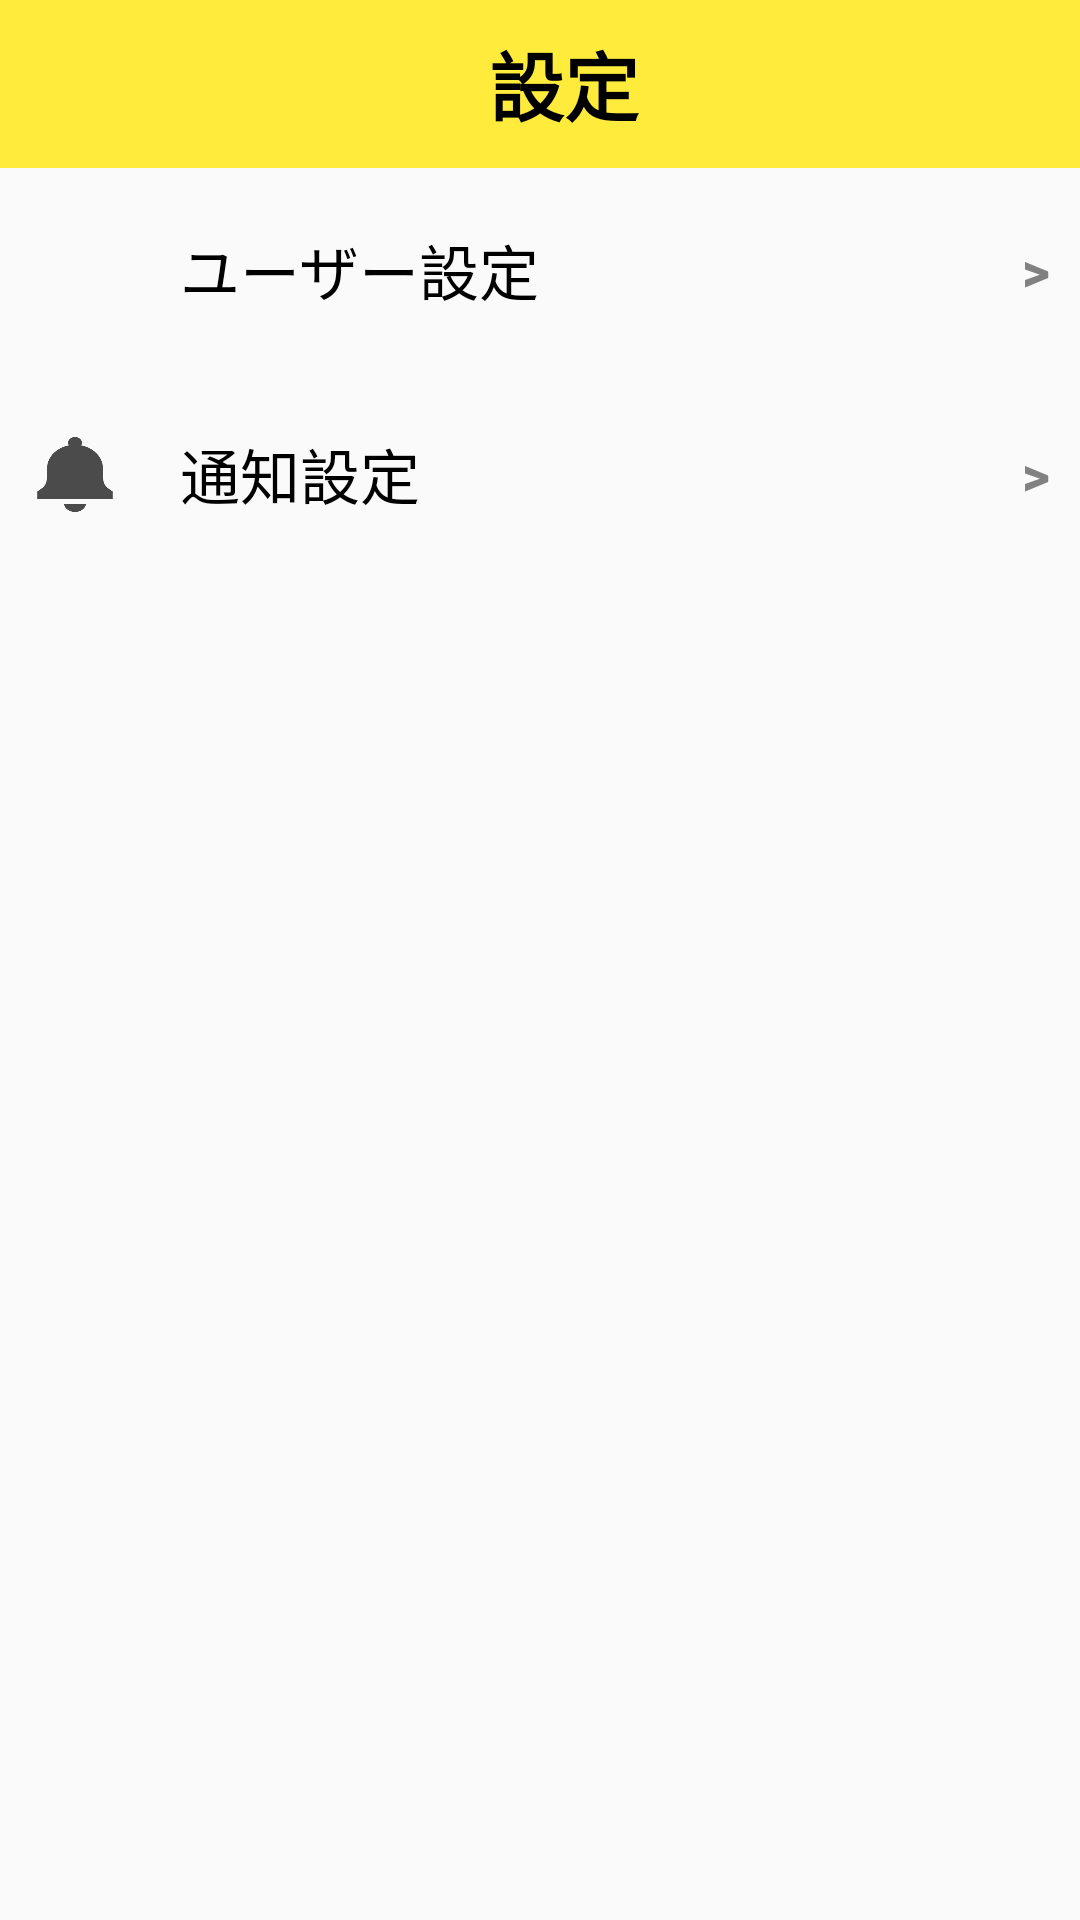

Named icons in this screenshot (1080*1920) and their bounding boxes, (x1, y1, x2, y2):
notification: (37, 437, 113, 512)
